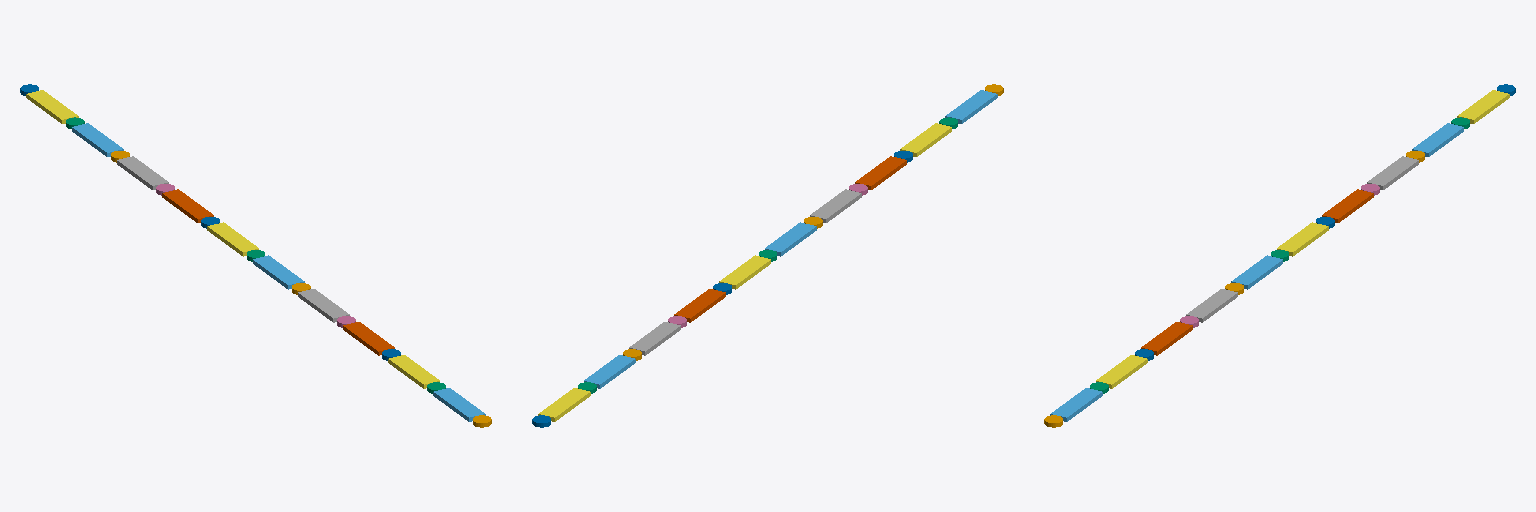
robot.urdf — planar_manipulator/10dof_manip_no_endeffector:
<?xml version="1.0"?>
<robot name="planar_manipulator/10dof_manip_no_endeffector">
 <link name="jlink0">
  <inertial>
    <mass value="1"/>
    <inertia ixx="0.0108333333333" ixy="0" ixz="0" iyy="0.0108333333333" iyz="0" izz="0.01"/>
  </inertial>
  <visual>
    <origin rpy="0 0 1.57" xyz="0 0 0"/>
    <geometry>
      <cylinder length="0.1" radius="0.2"/>
    </geometry>
  </visual>
  <collision>
    <origin rpy="0 0 1.57" xyz="0 0 0"/>
    <geometry>
      <cylinder length="0.1" radius="0.2"/>
    </geometry>
  </collision>
 </link>

 <link name="link0">
  <inertial>
    <mass value="1"/>
    <inertia ixx="0.0141666666667" ixy="0" ixz="0" iyy="0.200833333333" iyz="0" izz="0.188333333333"/>
  </inertial>
  <visual>
    <origin rpy="0 0 0" xyz="0 0.95 0"/>
    <geometry>
      <box size="0.4 1.5 0.1"/>
    </geometry>
  </visual>
  <collision>
    <origin rpy="0 0 0" xyz="0 0.95 0"/>
    <geometry>
      <box size="0.4 1.5 0.1"/>
    </geometry>
  </collision>
 </link>

<joint name="joint_revolute_jlink0_link0_Z" type="revolute">
  <origin rpy="0 0 0" xyz="0 0 0"/>
  <parent link="jlink0"/>
  <child link="link0"/>
  <axis xyz="0 0 1"/>
  <dynamics damping="0.01" friction="0.5"/>
  <limit lower="-3.14" upper="3.14" effort="0.01" velocity="100"/>
</joint>

 <link name="jlink1">
  <inertial>
    <mass value="1"/>
    <inertia ixx="0.0108333333333" ixy="0" ixz="0" iyy="0.0108333333333" iyz="0" izz="0.01"/>
  </inertial>
  <visual>
    <origin rpy="0 0 1.57" xyz="0 0 0"/>
    <geometry>
      <cylinder length="0.1" radius="0.2"/>
    </geometry>
  </visual>
  <collision>
    <origin rpy="0 0 1.57" xyz="0 0 0"/>
    <geometry>
      <cylinder length="0.1" radius="0.2"/>
    </geometry>
  </collision>
 </link>

<joint name="joint_fixed_link0_jlink1" type="fixed">
  <origin rpy="0 0 0" xyz="0 1.9 0"/>
  <parent link="link0"/>
  <child link="jlink1"/>
</joint>

 <link name="link1">
  <inertial>
    <mass value="1"/>
    <inertia ixx="0.0141666666667" ixy="0" ixz="0" iyy="0.200833333333" iyz="0" izz="0.188333333333"/>
  </inertial>
  <visual>
    <origin rpy="0 0 0" xyz="0 0.95 0"/>
    <geometry>
      <box size="0.4 1.5 0.1"/>
    </geometry>
  </visual>
  <collision>
    <origin rpy="0 0 0" xyz="0 0.95 0"/>
    <geometry>
      <box size="0.4 1.5 0.1"/>
    </geometry>
  </collision>
 </link>

<joint name="joint_revolute_jlink1_link1_Z" type="revolute">
  <origin rpy="0 0 0" xyz="0 0 0"/>
  <parent link="jlink1"/>
  <child link="link1"/>
  <axis xyz="0 0 1"/>
  <dynamics damping="0.01" friction="0.5"/>
  <limit lower="-3.14" upper="3.14" effort="0.01" velocity="100"/>
</joint>

 <link name="jlink2">
  <inertial>
    <mass value="1"/>
    <inertia ixx="0.0108333333333" ixy="0" ixz="0" iyy="0.0108333333333" iyz="0" izz="0.01"/>
  </inertial>
  <visual>
    <origin rpy="0 0 1.57" xyz="0 0 0"/>
    <geometry>
      <cylinder length="0.1" radius="0.2"/>
    </geometry>
  </visual>
  <collision>
    <origin rpy="0 0 1.57" xyz="0 0 0"/>
    <geometry>
      <cylinder length="0.1" radius="0.2"/>
    </geometry>
  </collision>
 </link>

<joint name="joint_fixed_link1_jlink2" type="fixed">
  <origin rpy="0 0 0" xyz="0 1.9 0"/>
  <parent link="link1"/>
  <child link="jlink2"/>
</joint>

 <link name="link2">
  <inertial>
    <mass value="1"/>
    <inertia ixx="0.0141666666667" ixy="0" ixz="0" iyy="0.200833333333" iyz="0" izz="0.188333333333"/>
  </inertial>
  <visual>
    <origin rpy="0 0 0" xyz="0 0.95 0"/>
    <geometry>
      <box size="0.4 1.5 0.1"/>
    </geometry>
  </visual>
  <collision>
    <origin rpy="0 0 0" xyz="0 0.95 0"/>
    <geometry>
      <box size="0.4 1.5 0.1"/>
    </geometry>
  </collision>
 </link>

<joint name="joint_revolute_jlink2_link2_Z" type="revolute">
  <origin rpy="0 0 0" xyz="0 0 0"/>
  <parent link="jlink2"/>
  <child link="link2"/>
  <axis xyz="0 0 1"/>
  <dynamics damping="0.01" friction="0.5"/>
  <limit lower="-3.14" upper="3.14" effort="0.01" velocity="100"/>
</joint>

 <link name="jlink3">
  <inertial>
    <mass value="1"/>
    <inertia ixx="0.0108333333333" ixy="0" ixz="0" iyy="0.0108333333333" iyz="0" izz="0.01"/>
  </inertial>
  <visual>
    <origin rpy="0 0 1.57" xyz="0 0 0"/>
    <geometry>
      <cylinder length="0.1" radius="0.2"/>
    </geometry>
  </visual>
  <collision>
    <origin rpy="0 0 1.57" xyz="0 0 0"/>
    <geometry>
      <cylinder length="0.1" radius="0.2"/>
    </geometry>
  </collision>
 </link>

<joint name="joint_fixed_link2_jlink3" type="fixed">
  <origin rpy="0 0 0" xyz="0 1.9 0"/>
  <parent link="link2"/>
  <child link="jlink3"/>
</joint>

 <link name="link3">
  <inertial>
    <mass value="1"/>
    <inertia ixx="0.0141666666667" ixy="0" ixz="0" iyy="0.200833333333" iyz="0" izz="0.188333333333"/>
  </inertial>
  <visual>
    <origin rpy="0 0 0" xyz="0 0.95 0"/>
    <geometry>
      <box size="0.4 1.5 0.1"/>
    </geometry>
  </visual>
  <collision>
    <origin rpy="0 0 0" xyz="0 0.95 0"/>
    <geometry>
      <box size="0.4 1.5 0.1"/>
    </geometry>
  </collision>
 </link>

<joint name="joint_revolute_jlink3_link3_Z" type="revolute">
  <origin rpy="0 0 0" xyz="0 0 0"/>
  <parent link="jlink3"/>
  <child link="link3"/>
  <axis xyz="0 0 1"/>
  <dynamics damping="0.01" friction="0.5"/>
  <limit lower="-3.14" upper="3.14" effort="0.01" velocity="100"/>
</joint>

 <link name="jlink4">
  <inertial>
    <mass value="1"/>
    <inertia ixx="0.0108333333333" ixy="0" ixz="0" iyy="0.0108333333333" iyz="0" izz="0.01"/>
  </inertial>
  <visual>
    <origin rpy="0 0 1.57" xyz="0 0 0"/>
    <geometry>
      <cylinder length="0.1" radius="0.2"/>
    </geometry>
  </visual>
  <collision>
    <origin rpy="0 0 1.57" xyz="0 0 0"/>
    <geometry>
      <cylinder length="0.1" radius="0.2"/>
    </geometry>
  </collision>
 </link>

<joint name="joint_fixed_link3_jlink4" type="fixed">
  <origin rpy="0 0 0" xyz="0 1.9 0"/>
  <parent link="link3"/>
  <child link="jlink4"/>
</joint>

 <link name="link4">
  <inertial>
    <mass value="1"/>
    <inertia ixx="0.0141666666667" ixy="0" ixz="0" iyy="0.200833333333" iyz="0" izz="0.188333333333"/>
  </inertial>
  <visual>
    <origin rpy="0 0 0" xyz="0 0.95 0"/>
    <geometry>
      <box size="0.4 1.5 0.1"/>
    </geometry>
  </visual>
  <collision>
    <origin rpy="0 0 0" xyz="0 0.95 0"/>
    <geometry>
      <box size="0.4 1.5 0.1"/>
    </geometry>
  </collision>
 </link>

<joint name="joint_revolute_jlink4_link4_Z" type="revolute">
  <origin rpy="0 0 0" xyz="0 0 0"/>
  <parent link="jlink4"/>
  <child link="link4"/>
  <axis xyz="0 0 1"/>
  <dynamics damping="0.01" friction="0.5"/>
  <limit lower="-3.14" upper="3.14" effort="0.01" velocity="100"/>
</joint>

 <link name="jlink5">
  <inertial>
    <mass value="1"/>
    <inertia ixx="0.0108333333333" ixy="0" ixz="0" iyy="0.0108333333333" iyz="0" izz="0.01"/>
  </inertial>
  <visual>
    <origin rpy="0 0 1.57" xyz="0 0 0"/>
    <geometry>
      <cylinder length="0.1" radius="0.2"/>
    </geometry>
  </visual>
  <collision>
    <origin rpy="0 0 1.57" xyz="0 0 0"/>
    <geometry>
      <cylinder length="0.1" radius="0.2"/>
    </geometry>
  </collision>
 </link>

<joint name="joint_fixed_link4_jlink5" type="fixed">
  <origin rpy="0 0 0" xyz="0 1.9 0"/>
  <parent link="link4"/>
  <child link="jlink5"/>
</joint>

 <link name="link5">
  <inertial>
    <mass value="1"/>
    <inertia ixx="0.0141666666667" ixy="0" ixz="0" iyy="0.200833333333" iyz="0" izz="0.188333333333"/>
  </inertial>
  <visual>
    <origin rpy="0 0 0" xyz="0 0.95 0"/>
    <geometry>
      <box size="0.4 1.5 0.1"/>
    </geometry>
  </visual>
  <collision>
    <origin rpy="0 0 0" xyz="0 0.95 0"/>
    <geometry>
      <box size="0.4 1.5 0.1"/>
    </geometry>
  </collision>
 </link>

<joint name="joint_revolute_jlink5_link5_Z" type="revolute">
  <origin rpy="0 0 0" xyz="0 0 0"/>
  <parent link="jlink5"/>
  <child link="link5"/>
  <axis xyz="0 0 1"/>
  <dynamics damping="0.01" friction="0.5"/>
  <limit lower="-3.14" upper="3.14" effort="0.01" velocity="100"/>
</joint>

 <link name="jlink6">
  <inertial>
    <mass value="1"/>
    <inertia ixx="0.0108333333333" ixy="0" ixz="0" iyy="0.0108333333333" iyz="0" izz="0.01"/>
  </inertial>
  <visual>
    <origin rpy="0 0 1.57" xyz="0 0 0"/>
    <geometry>
      <cylinder length="0.1" radius="0.2"/>
    </geometry>
  </visual>
  <collision>
    <origin rpy="0 0 1.57" xyz="0 0 0"/>
    <geometry>
      <cylinder length="0.1" radius="0.2"/>
    </geometry>
  </collision>
 </link>

<joint name="joint_fixed_link5_jlink6" type="fixed">
  <origin rpy="0 0 0" xyz="0 1.9 0"/>
  <parent link="link5"/>
  <child link="jlink6"/>
</joint>

 <link name="link6">
  <inertial>
    <mass value="1"/>
    <inertia ixx="0.0141666666667" ixy="0" ixz="0" iyy="0.200833333333" iyz="0" izz="0.188333333333"/>
  </inertial>
  <visual>
    <origin rpy="0 0 0" xyz="0 0.95 0"/>
    <geometry>
      <box size="0.4 1.5 0.1"/>
    </geometry>
  </visual>
  <collision>
    <origin rpy="0 0 0" xyz="0 0.95 0"/>
    <geometry>
      <box size="0.4 1.5 0.1"/>
    </geometry>
  </collision>
 </link>

<joint name="joint_revolute_jlink6_link6_Z" type="revolute">
  <origin rpy="0 0 0" xyz="0 0 0"/>
  <parent link="jlink6"/>
  <child link="link6"/>
  <axis xyz="0 0 1"/>
  <dynamics damping="0.01" friction="0.5"/>
  <limit lower="-3.14" upper="3.14" effort="0.01" velocity="100"/>
</joint>

 <link name="jlink7">
  <inertial>
    <mass value="1"/>
    <inertia ixx="0.0108333333333" ixy="0" ixz="0" iyy="0.0108333333333" iyz="0" izz="0.01"/>
  </inertial>
  <visual>
    <origin rpy="0 0 1.57" xyz="0 0 0"/>
    <geometry>
      <cylinder length="0.1" radius="0.2"/>
    </geometry>
  </visual>
  <collision>
    <origin rpy="0 0 1.57" xyz="0 0 0"/>
    <geometry>
      <cylinder length="0.1" radius="0.2"/>
    </geometry>
  </collision>
 </link>

<joint name="joint_fixed_link6_jlink7" type="fixed">
  <origin rpy="0 0 0" xyz="0 1.9 0"/>
  <parent link="link6"/>
  <child link="jlink7"/>
</joint>

 <link name="link7">
  <inertial>
    <mass value="1"/>
    <inertia ixx="0.0141666666667" ixy="0" ixz="0" iyy="0.200833333333" iyz="0" izz="0.188333333333"/>
  </inertial>
  <visual>
    <origin rpy="0 0 0" xyz="0 0.95 0"/>
    <geometry>
      <box size="0.4 1.5 0.1"/>
    </geometry>
  </visual>
  <collision>
    <origin rpy="0 0 0" xyz="0 0.95 0"/>
    <geometry>
      <box size="0.4 1.5 0.1"/>
    </geometry>
  </collision>
 </link>

<joint name="joint_revolute_jlink7_link7_Z" type="revolute">
  <origin rpy="0 0 0" xyz="0 0 0"/>
  <parent link="jlink7"/>
  <child link="link7"/>
  <axis xyz="0 0 1"/>
  <dynamics damping="0.01" friction="0.5"/>
  <limit lower="-3.14" upper="3.14" effort="0.01" velocity="100"/>
</joint>

 <link name="jlink8">
  <inertial>
    <mass value="1"/>
    <inertia ixx="0.0108333333333" ixy="0" ixz="0" iyy="0.0108333333333" iyz="0" izz="0.01"/>
  </inertial>
  <visual>
    <origin rpy="0 0 1.57" xyz="0 0 0"/>
    <geometry>
      <cylinder length="0.1" radius="0.2"/>
    </geometry>
  </visual>
  <collision>
    <origin rpy="0 0 1.57" xyz="0 0 0"/>
    <geometry>
      <cylinder length="0.1" radius="0.2"/>
    </geometry>
  </collision>
 </link>

<joint name="joint_fixed_link7_jlink8" type="fixed">
  <origin rpy="0 0 0" xyz="0 1.9 0"/>
  <parent link="link7"/>
  <child link="jlink8"/>
</joint>

 <link name="link8">
  <inertial>
    <mass value="1"/>
    <inertia ixx="0.0141666666667" ixy="0" ixz="0" iyy="0.200833333333" iyz="0" izz="0.188333333333"/>
  </inertial>
  <visual>
    <origin rpy="0 0 0" xyz="0 0.95 0"/>
    <geometry>
      <box size="0.4 1.5 0.1"/>
    </geometry>
  </visual>
  <collision>
    <origin rpy="0 0 0" xyz="0 0.95 0"/>
    <geometry>
      <box size="0.4 1.5 0.1"/>
    </geometry>
  </collision>
 </link>

<joint name="joint_revolute_jlink8_link8_Z" type="revolute">
  <origin rpy="0 0 0" xyz="0 0 0"/>
  <parent link="jlink8"/>
  <child link="link8"/>
  <axis xyz="0 0 1"/>
  <dynamics damping="0.01" friction="0.5"/>
  <limit lower="-3.14" upper="3.14" effort="0.01" velocity="100"/>
</joint>

 <link name="jlink9">
  <inertial>
    <mass value="1"/>
    <inertia ixx="0.0108333333333" ixy="0" ixz="0" iyy="0.0108333333333" iyz="0" izz="0.01"/>
  </inertial>
  <visual>
    <origin rpy="0 0 1.57" xyz="0 0 0"/>
    <geometry>
      <cylinder length="0.1" radius="0.2"/>
    </geometry>
  </visual>
  <collision>
    <origin rpy="0 0 1.57" xyz="0 0 0"/>
    <geometry>
      <cylinder length="0.1" radius="0.2"/>
    </geometry>
  </collision>
 </link>

<joint name="joint_fixed_link8_jlink9" type="fixed">
  <origin rpy="0 0 0" xyz="0 1.9 0"/>
  <parent link="link8"/>
  <child link="jlink9"/>
</joint>

 <link name="link9">
  <inertial>
    <mass value="1"/>
    <inertia ixx="0.0141666666667" ixy="0" ixz="0" iyy="0.200833333333" iyz="0" izz="0.188333333333"/>
  </inertial>
  <visual>
    <origin rpy="0 0 0" xyz="0 0.95 0"/>
    <geometry>
      <box size="0.4 1.5 0.1"/>
    </geometry>
  </visual>
  <collision>
    <origin rpy="0 0 0" xyz="0 0.95 0"/>
    <geometry>
      <box size="0.4 1.5 0.1"/>
    </geometry>
  </collision>
 </link>

<joint name="joint_revolute_jlink9_link9_Z" type="revolute">
  <origin rpy="0 0 0" xyz="0 0 0"/>
  <parent link="jlink9"/>
  <child link="link9"/>
  <axis xyz="0 0 1"/>
  <dynamics damping="0.01" friction="0.5"/>
  <limit lower="-3.14" upper="3.14" effort="0.01" velocity="100"/>
</joint>

 <link name="jlink10">
  <inertial>
    <mass value="1"/>
    <inertia ixx="0.0108333333333" ixy="0" ixz="0" iyy="0.0108333333333" iyz="0" izz="0.01"/>
  </inertial>
  <visual>
    <origin rpy="0 0 1.57" xyz="0 0 0"/>
    <geometry>
      <cylinder length="0.1" radius="0.2"/>
    </geometry>
  </visual>
  <collision>
    <origin rpy="0 0 1.57" xyz="0 0 0"/>
    <geometry>
      <cylinder length="0.1" radius="0.2"/>
    </geometry>
  </collision>
 </link>

<joint name="joint_fixed_link9_jlink10" type="fixed">
  <origin rpy="0 0 0" xyz="0 1.9 0"/>
  <parent link="link9"/>
  <child link="jlink10"/>
</joint>

  <klampt package_root="../../.." default_acc_max="4" >
  </klampt>
</robot>

--- Facts derived from the render (not from the file) ---
Views: 3 orthographic renders of the robot side by side, from view 1: azimuth 30°, elevation 25°; view 2: azimuth 150°, elevation 25°; view 3: azimuth 330°, elevation 25°.
Model planar_manipulator/10dof_manip_no_endeffector with 21 links and 20 joints (10 revolute, 10 fixed), rooted at jlink0, posed every joint at zero.
Links seen in each view (by area): view 1: link9, link0, link5, link7, link8, link6, link2, link4, link1, link3; view 2: link0, link9, link2, link4, link1, link3, link5, link7, link6, link8; view 3: link9, link0, link5, link7, link8, link6, link2, link4, link1, link3.
Link boxes in pixels (x1=…): link9: x1=26, y1=90, x2=78, y2=123; link0: x1=433, y1=388, x2=485, y2=421; link5: x1=207, y1=222, x2=258, y2=256; link7: x1=117, y1=156, x2=168, y2=189; link8: x1=72, y1=123, x2=123, y2=156; link6: x1=162, y1=189, x2=213, y2=222; link2: x1=343, y1=322, x2=394, y2=355; link4: x1=253, y1=255, x2=304, y2=289; link1: x1=388, y1=355, x2=439, y2=388; link3: x1=298, y1=289, x2=349, y2=322; link0: x1=945, y1=90, x2=997, y2=123; link9: x1=538, y1=388, x2=590, y2=421; link2: x1=855, y1=156, x2=906, y2=189; link4: x1=765, y1=222, x2=816, y2=256; link1: x1=900, y1=123, x2=951, y2=156; link3: x1=810, y1=189, x2=861, y2=222; link5: x1=719, y1=255, x2=770, y2=289; link7: x1=629, y1=322, x2=680, y2=355; link6: x1=674, y1=289, x2=725, y2=322; link8: x1=584, y1=355, x2=635, y2=388; link9: x1=1457, y1=90, x2=1509, y2=123; link0: x1=1050, y1=388, x2=1102, y2=421; link5: x1=1277, y1=222, x2=1328, y2=256; link7: x1=1367, y1=156, x2=1418, y2=189; link8: x1=1412, y1=123, x2=1463, y2=156; link6: x1=1322, y1=189, x2=1373, y2=222; link2: x1=1141, y1=322, x2=1192, y2=355; link4: x1=1231, y1=255, x2=1282, y2=289; link1: x1=1096, y1=355, x2=1147, y2=388; link3: x1=1186, y1=289, x2=1237, y2=322.
Size in the robot's own frame: 0.4 by 19.4 by 0.1 metres.
Geometry: primitives only (box / cylinder / sphere), no mesh files.
